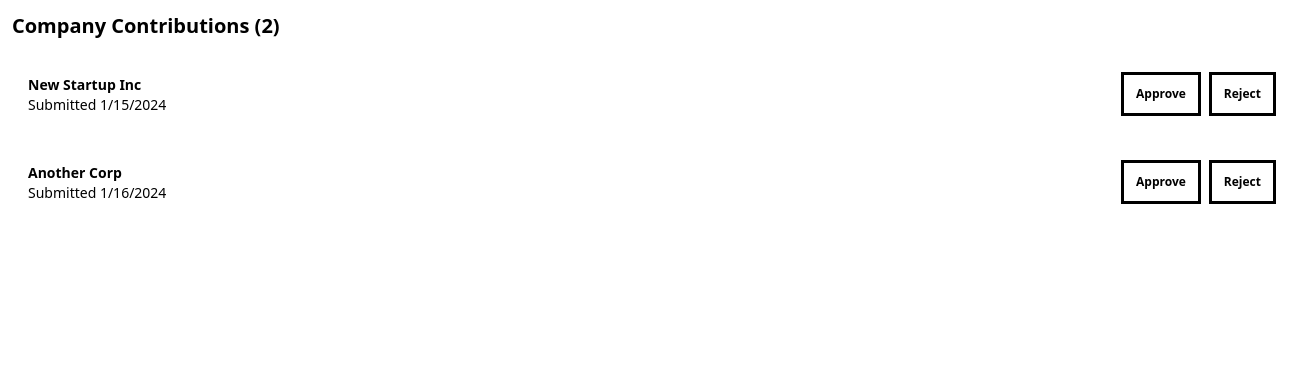
Test: AdminModerationQueue › T116: reject contribution action › requires notes before confirming rejection
This screenshot has width=1292, height=377.
// Click reject to expand
Click the button "Reject" in the row of "1/15/2024": {"x": 1242, "y": 94} [1209,72,1276,116]
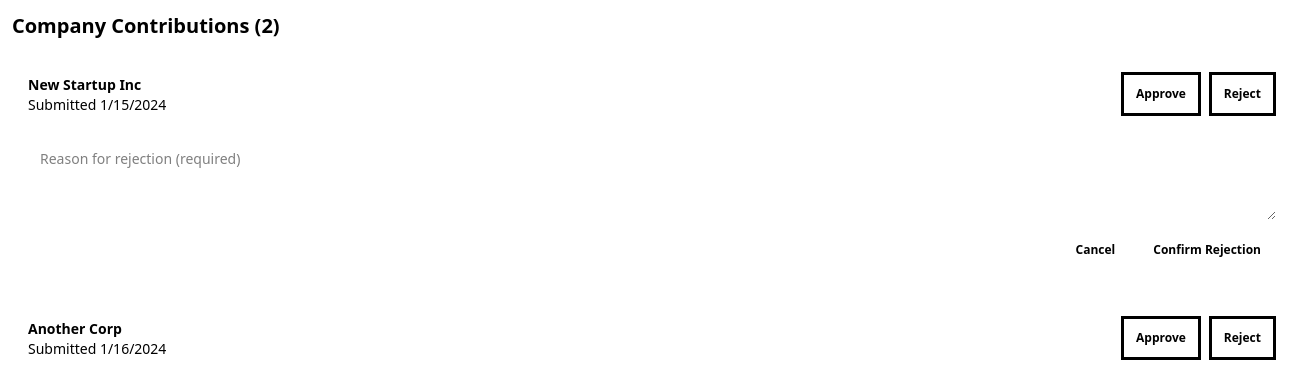
Now the button "Confirm Rejection" is disabled, box [1138,228,1276,272]
In the text box with placeholder "Reason for rejection (required)": {"x": 652, "y": 180} [28,140,1276,220], type "Duplicate entry"
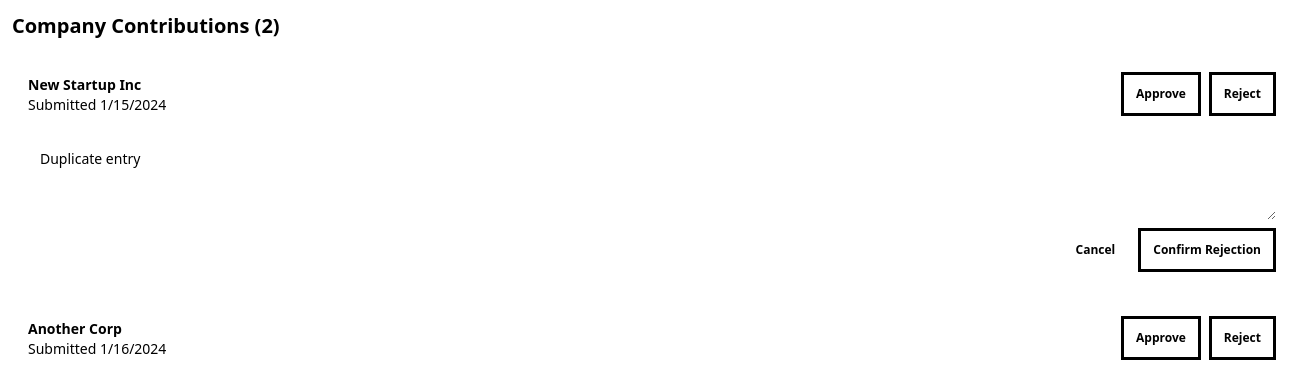
Now the button "Confirm Rejection" is enabled, box [1138,228,1276,272]
